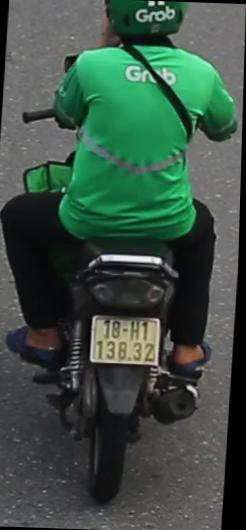LP: (87, 309, 169, 370)
helmet: (94, 0, 204, 58)
